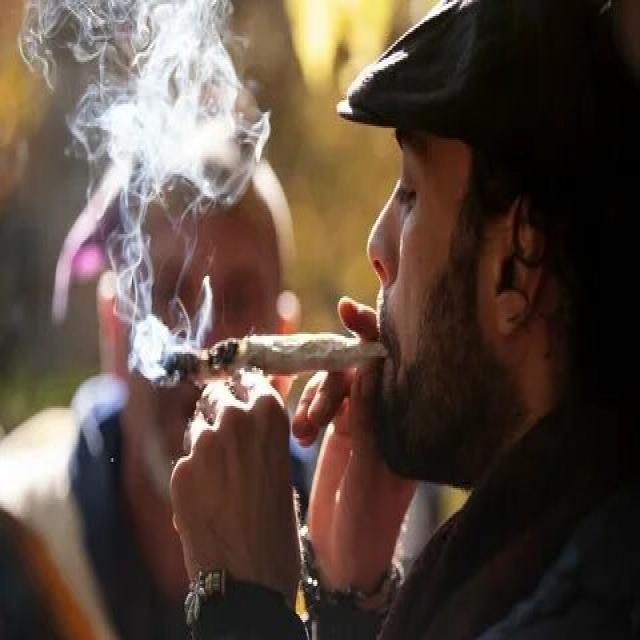smoke: (148, 330, 389, 388)
